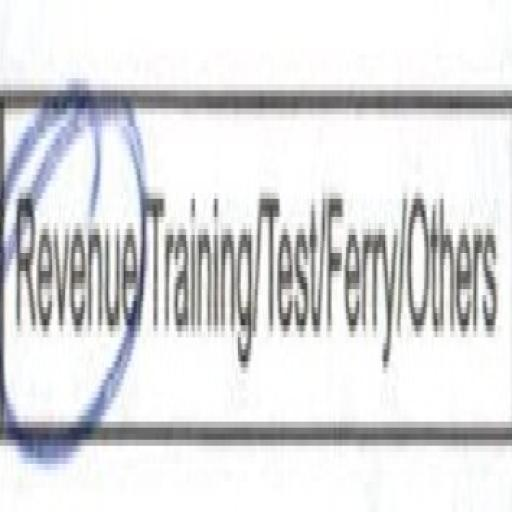check: (2, 0, 142, 481)
